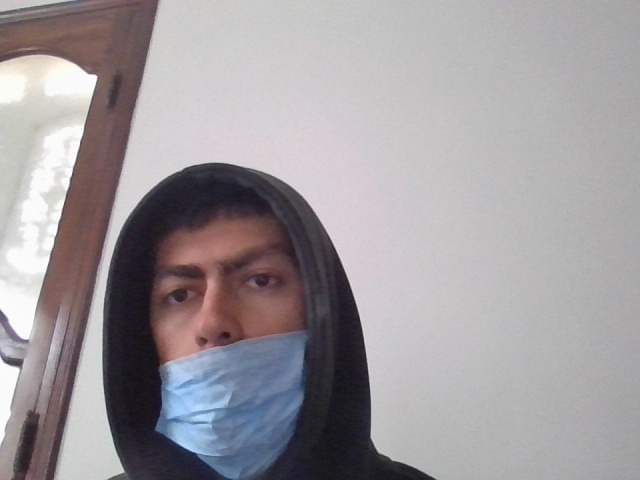mask_weared_incorrect: (140, 182, 312, 479)
